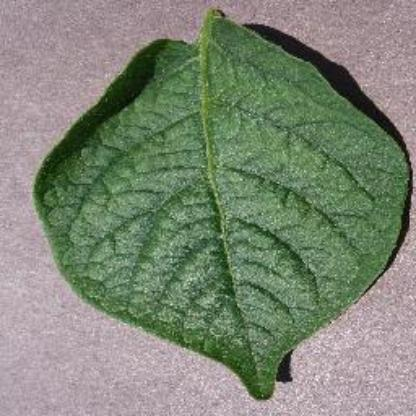Healthy-plant: (40, 13, 412, 395)
